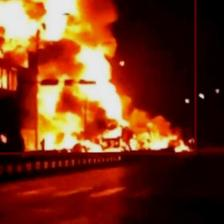fire: (0, 0, 196, 154)
